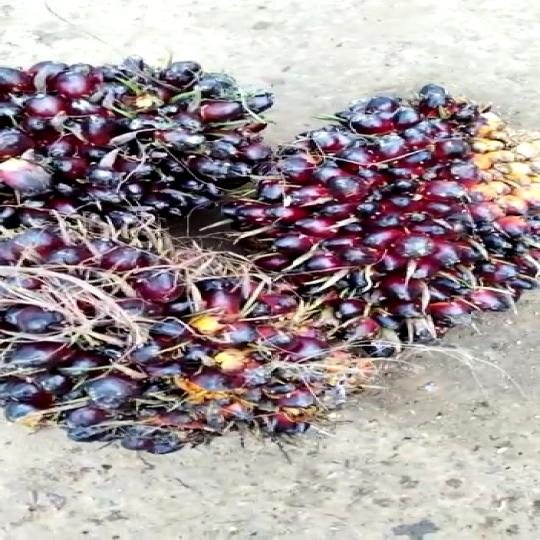kurang masak: (0, 218, 399, 449), (265, 87, 540, 341), (0, 55, 252, 233)
